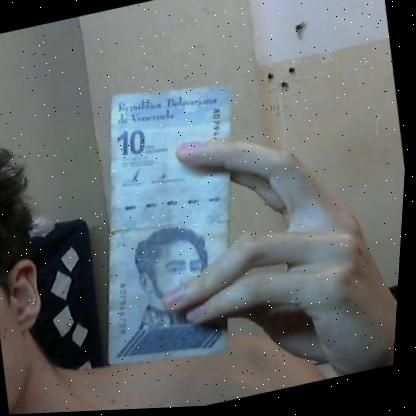ten-front-vef: (69, 69, 280, 381)
